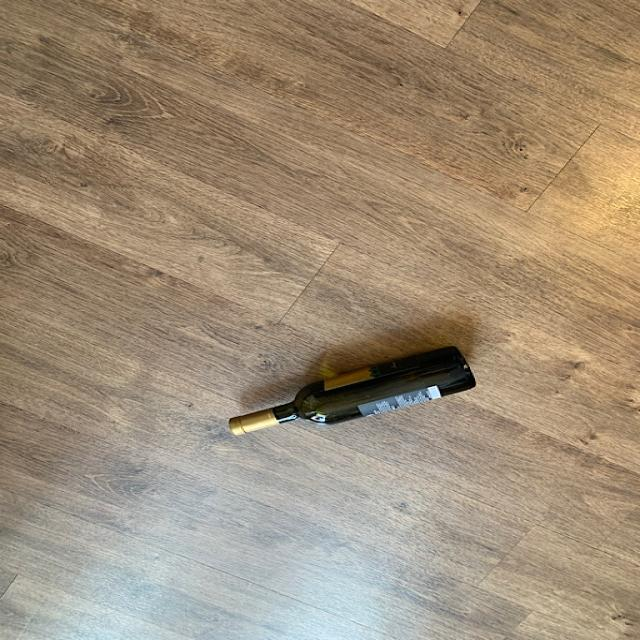litter: (229, 346, 481, 438)
